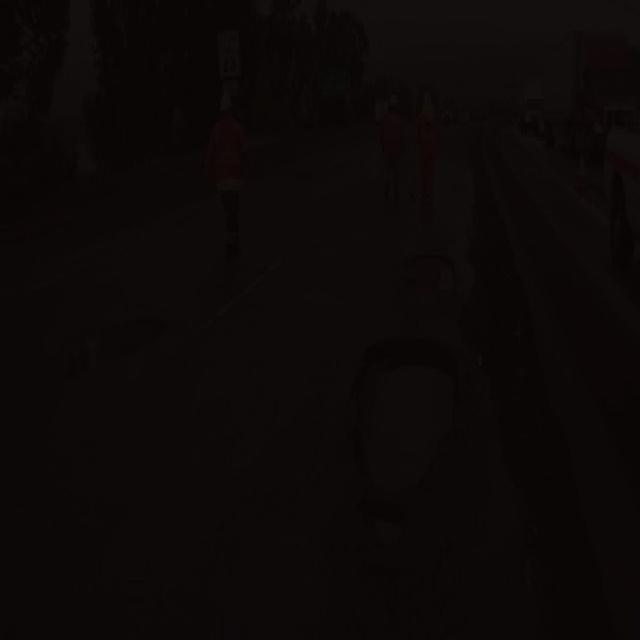Pothole: (350, 319, 466, 555), (49, 307, 181, 394), (384, 249, 465, 304)
